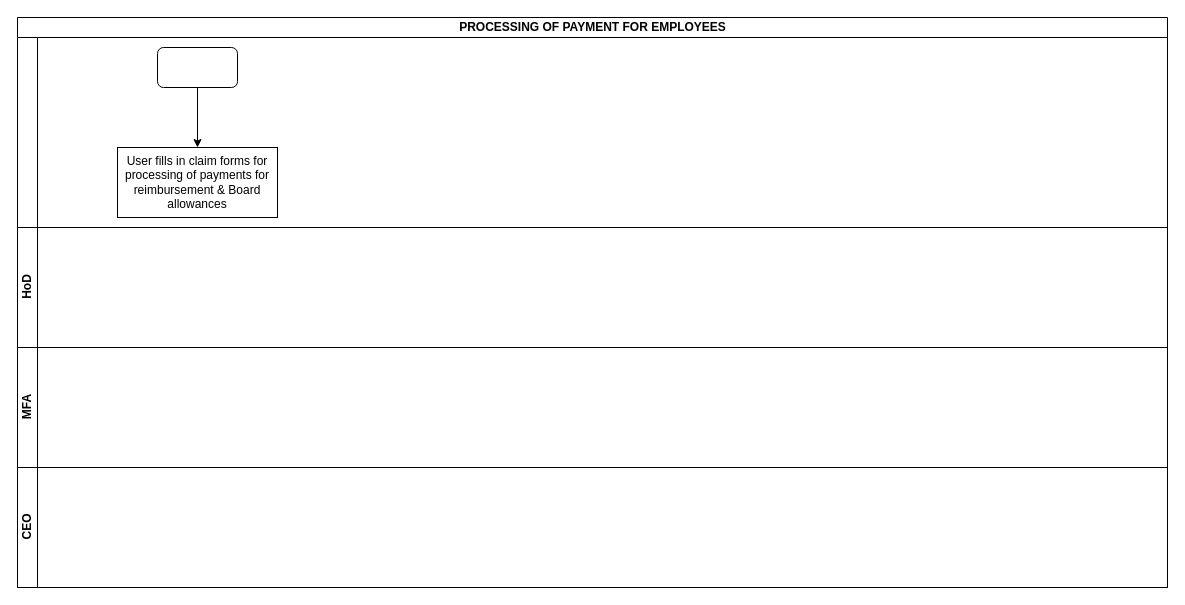
Some shapes in this 1185 by 605 pixel diagram are drawn without their labels. The shapes that lost their labels are listed below. From the top down, each one's box as (x1, y1, x2, y2) in pixels, then its label:
(156, 46, 238, 88): Start
(16, 36, 1168, 228): Staff
